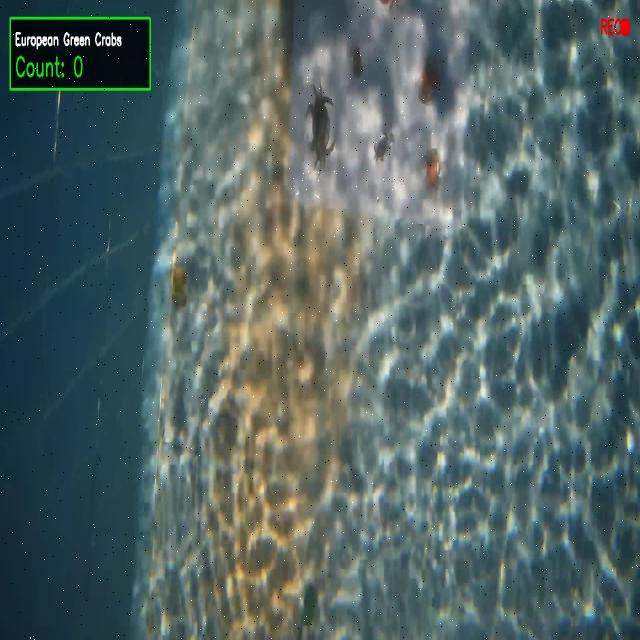European_Green_Crab: (306, 79, 334, 173), (369, 123, 397, 173)
